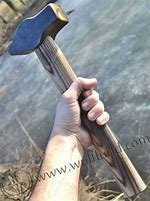hammer: (7, 2, 150, 200)
